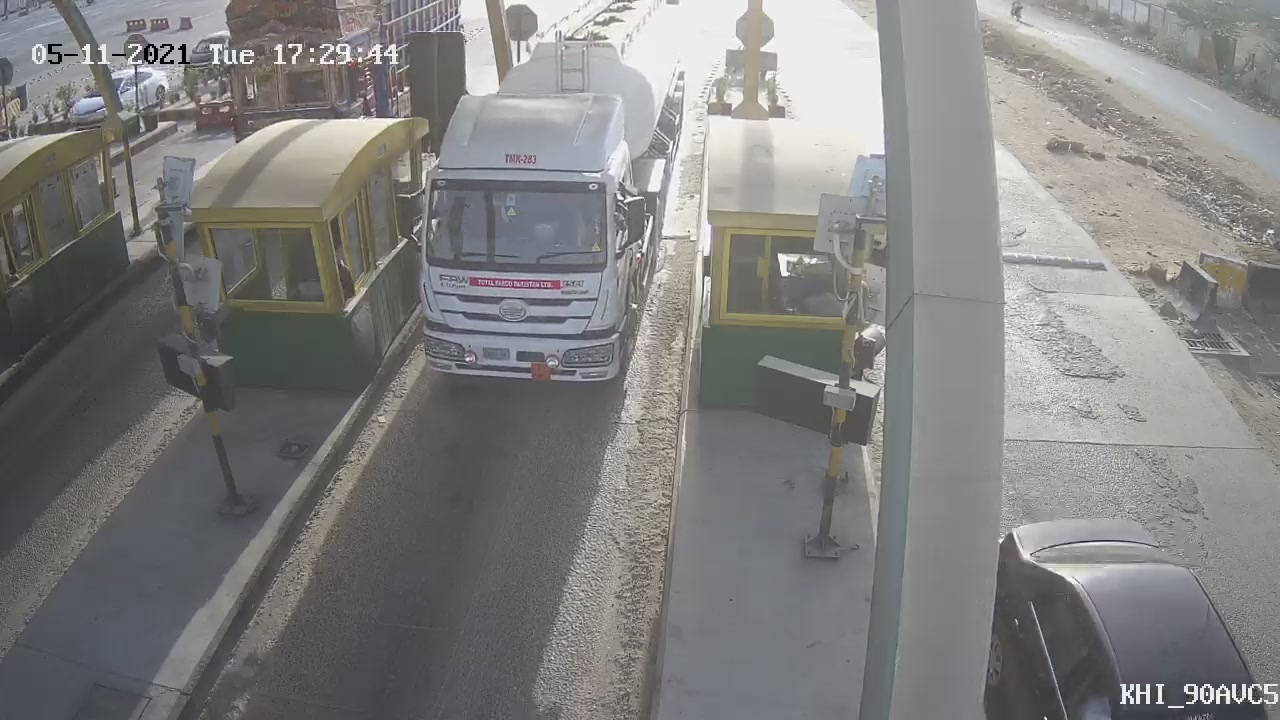F6: (367, 1, 706, 414)
